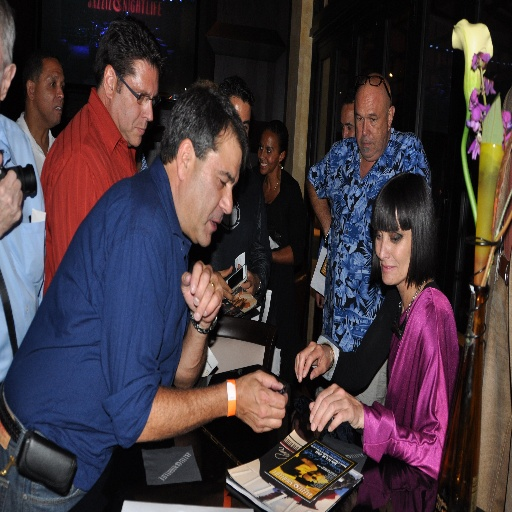hand: (232, 370, 291, 439), (179, 256, 223, 326), (309, 380, 364, 433), (0, 152, 23, 238), (293, 342, 335, 383), (213, 265, 234, 310), (235, 262, 257, 295), (315, 294, 324, 312)
